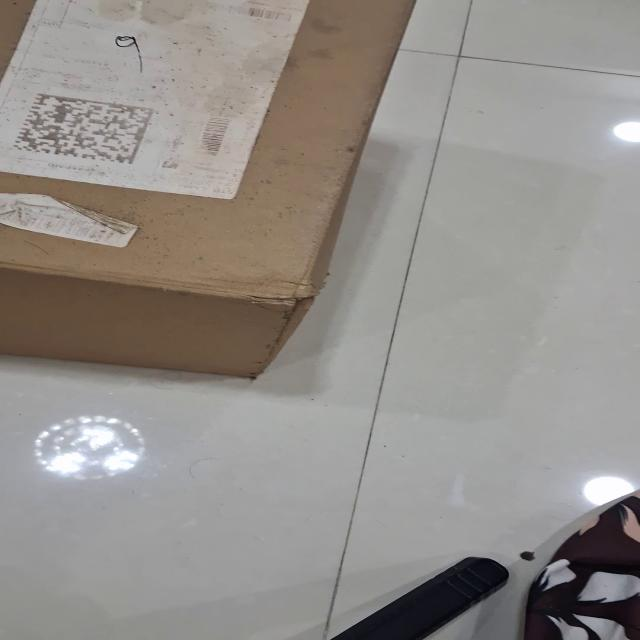paper: (1, 0, 310, 200), (0, 192, 138, 248)
